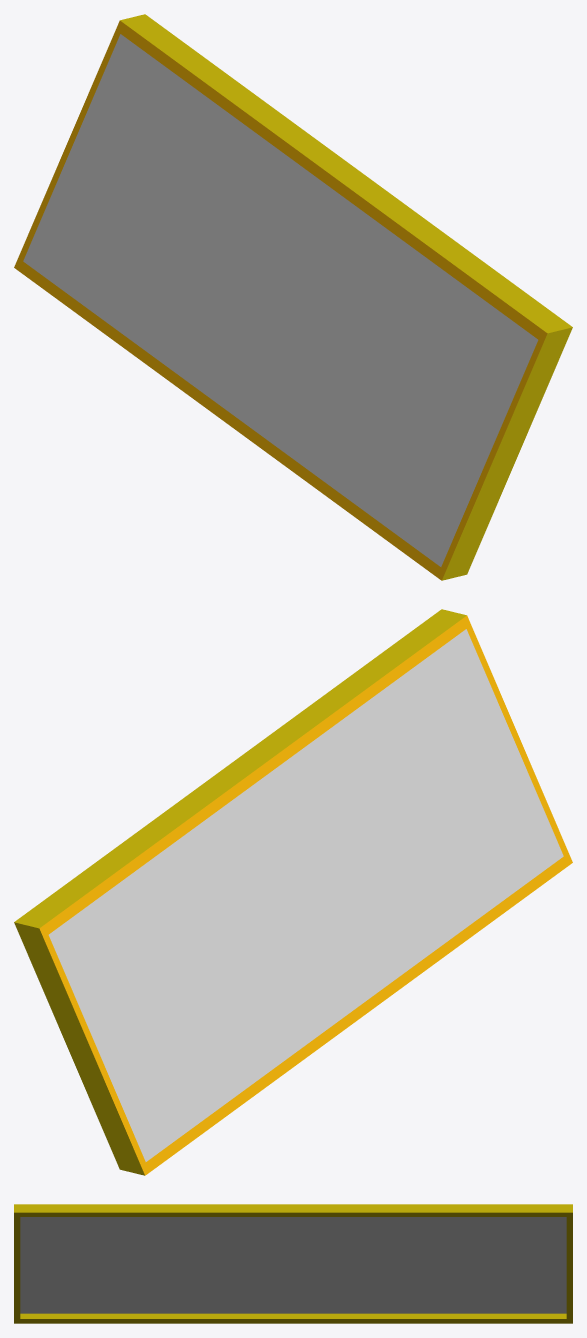
Rendered from window_slanted_7x1x2.dae.
3 views of the same model, one above another, from view 1: azimuth 30°, elevation 25°; view 2: azimuth 150°, elevation 25°; view 3: azimuth 270°, elevation 25° (orthographic). The views are drawn at different scales.
Visible parts, largest first — view 1: Cube; view 2: Cube; view 3: Cube.
Boxes of the visible parts, x1=… form: Cube: x1=14, y1=14, x2=572, y2=580; Cube: x1=14, y1=609, x2=572, y2=1175; Cube: x1=14, y1=1204, x2=572, y2=1323.
Size of the model in its own units: 0.31 by 1.75 by 0.5.
